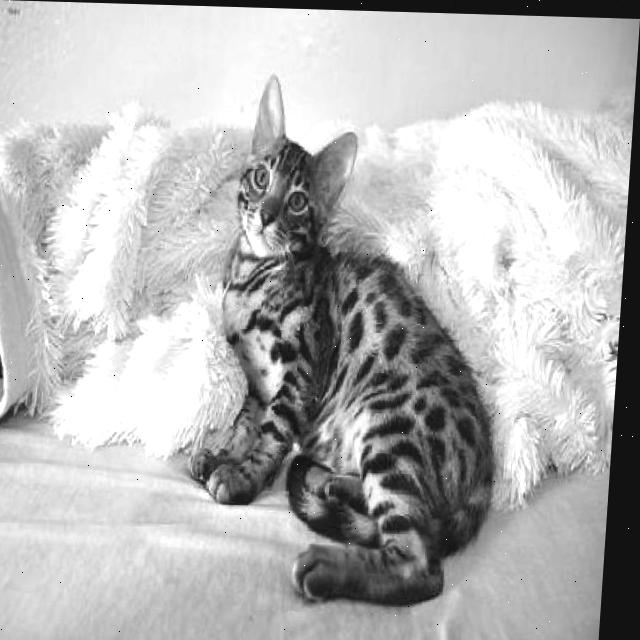Cat: (178, 69, 523, 610)
